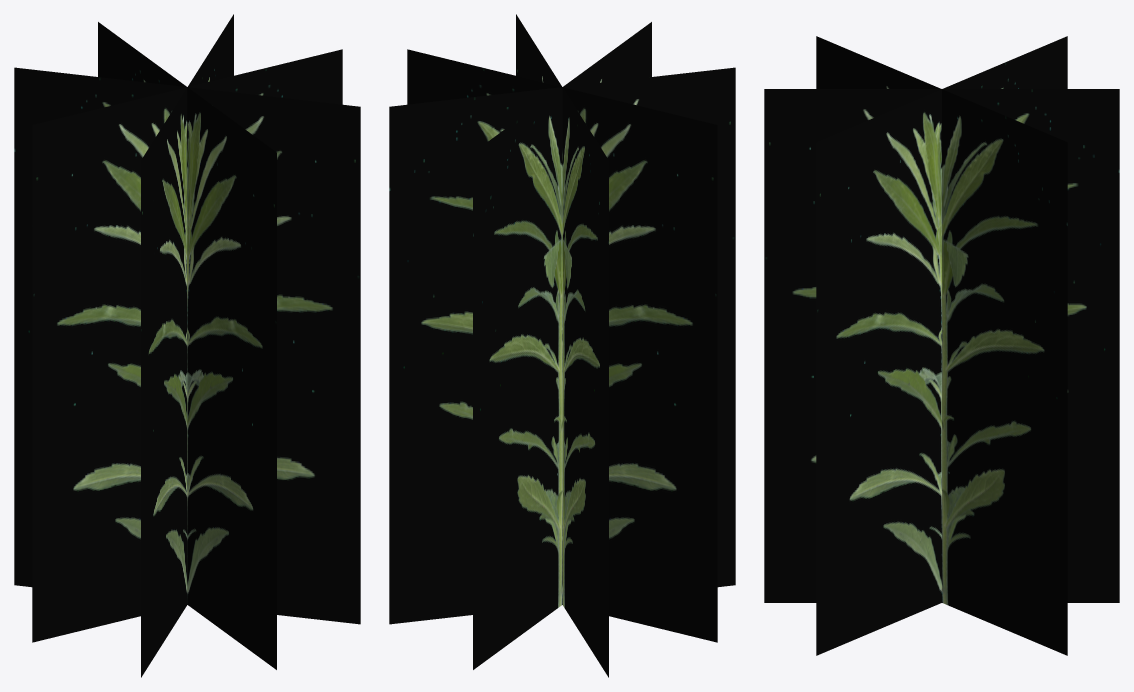
File: pianta.glb
3 views of the same model, side by side, from view 1: azimuth 30°, elevation 25°; view 2: azimuth 150°, elevation 25°; view 3: azimuth 270°, elevation 25° (orthographic).
Parts seen in each view (by area): view 1: Material_001-material.002; view 2: Material_001-material.002; view 3: Material_001-material.002.
Boxes of the visible parts, bbox=[...] form: Material_001-material.002: bbox=[14, 14, 360, 677]; Material_001-material.002: bbox=[389, 14, 735, 677]; Material_001-material.002: bbox=[764, 36, 1119, 655].
Size of the model in its own units: 3.14 by 5 by 3.14.
Materials: 1 (1 with a texture image).
